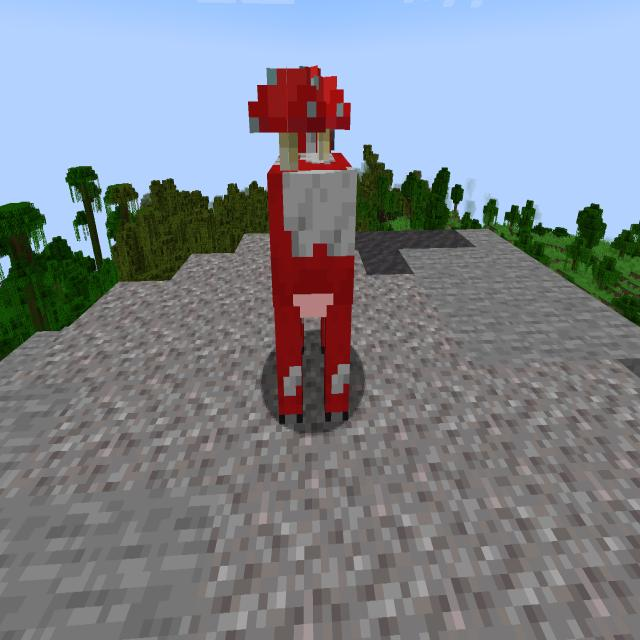Mooshroom: (237, 53, 381, 435)
